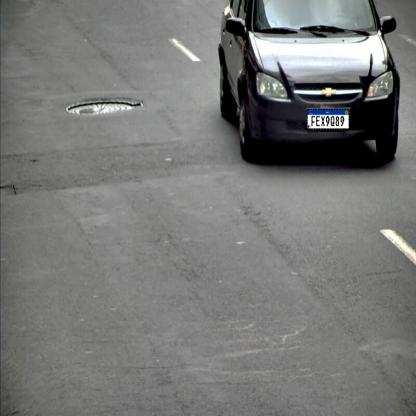PlacaM: (307, 109, 349, 130)
